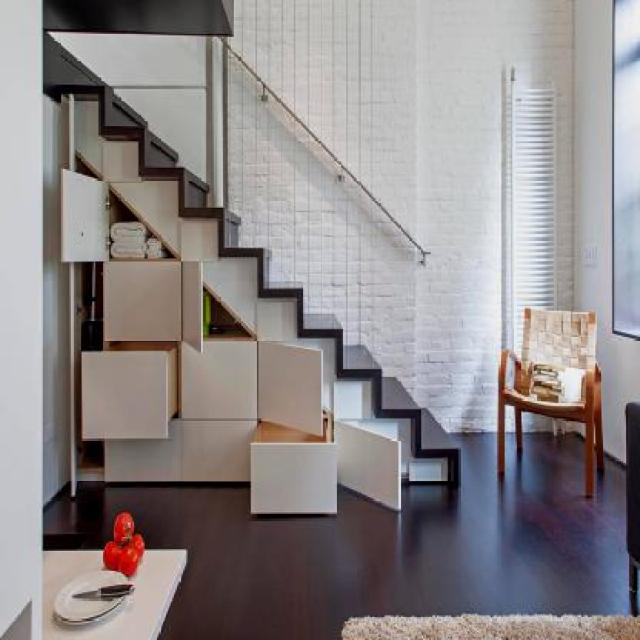stair: (45, 43, 466, 511)
